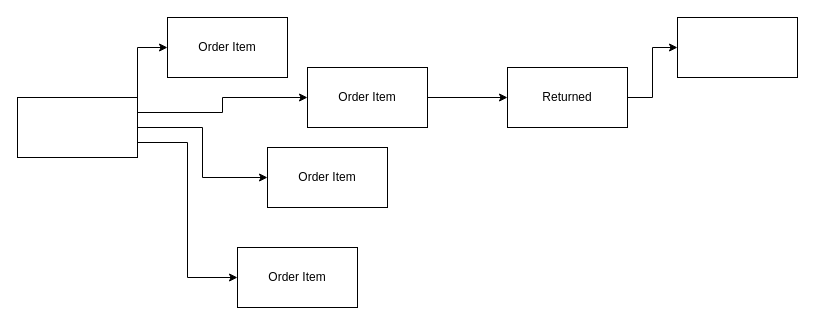
The diagram is 815 pixels wide and 325 high, and some of its shapes have lost their labels. The centre of each missing label's shape, as x and y in pixels:
Order: the point at 77,127
re Add the Qunatity to the stock: the point at 737,47
